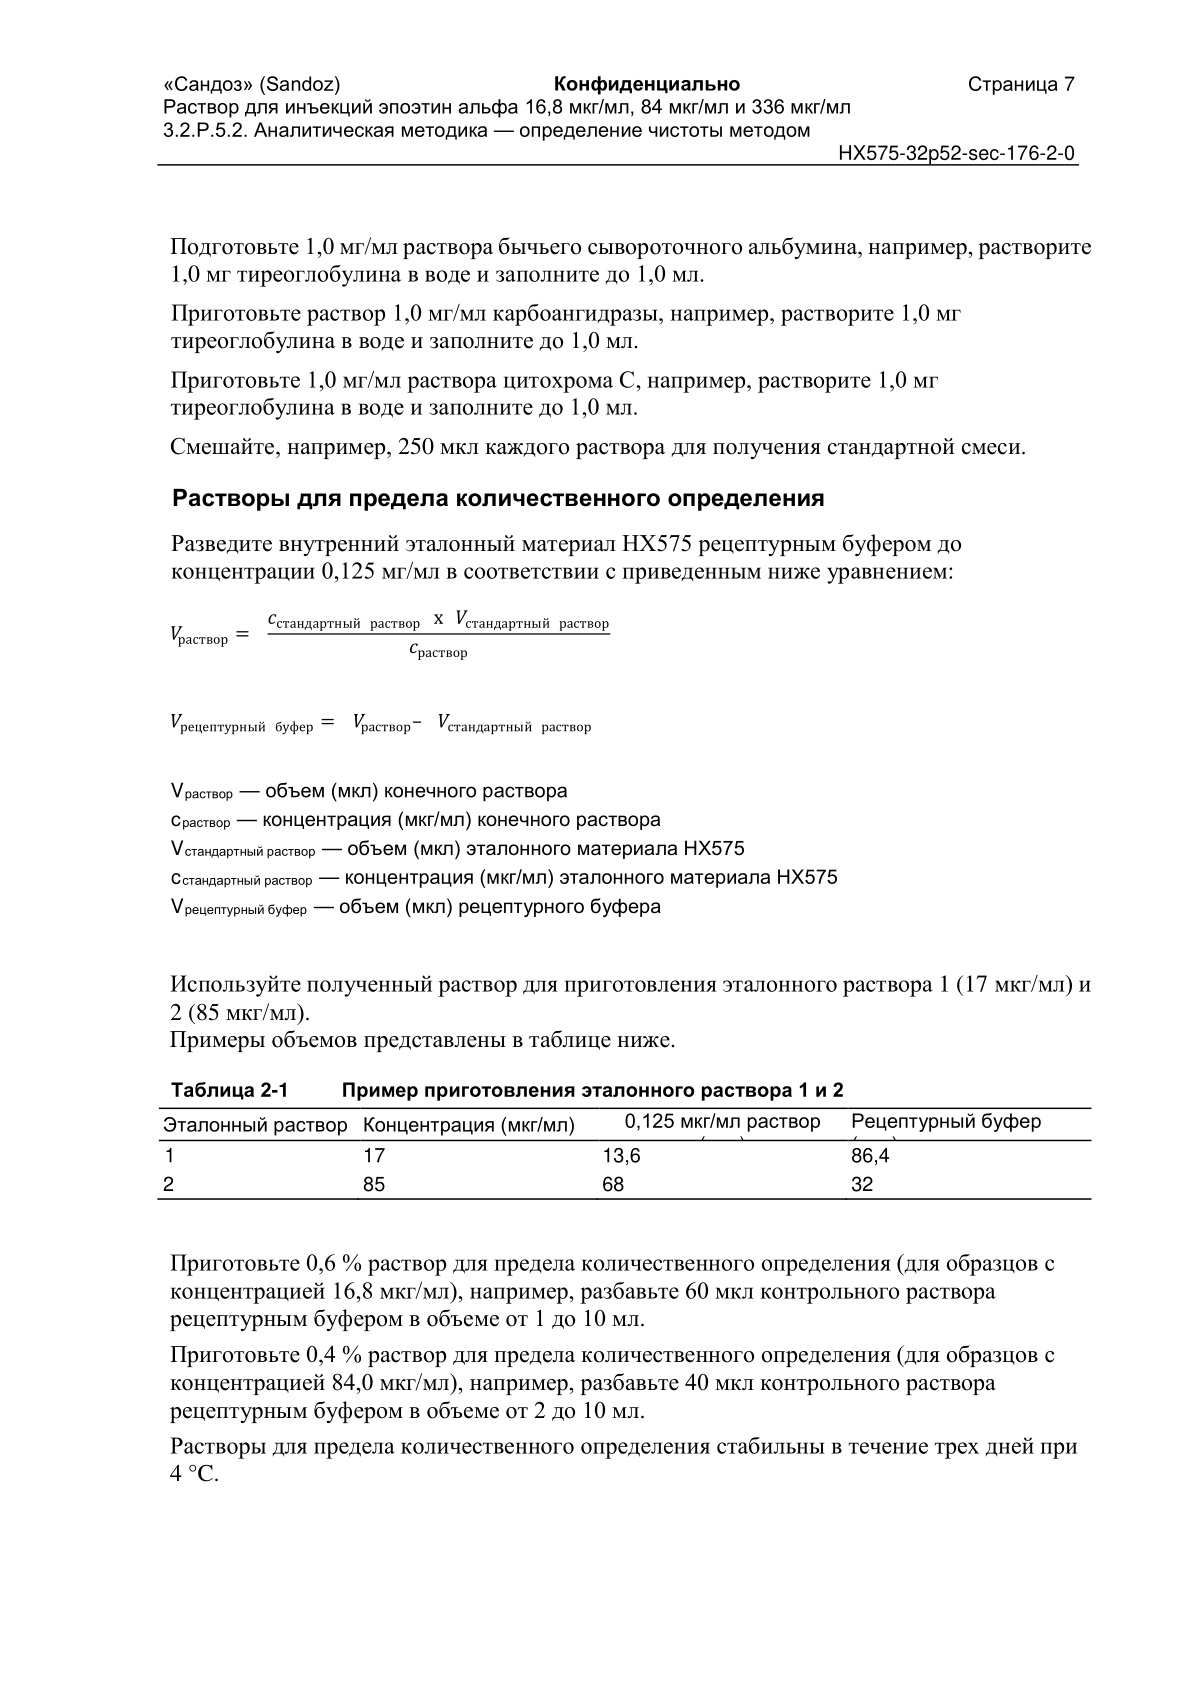partial_lined: (157, 1105, 1096, 1203)
